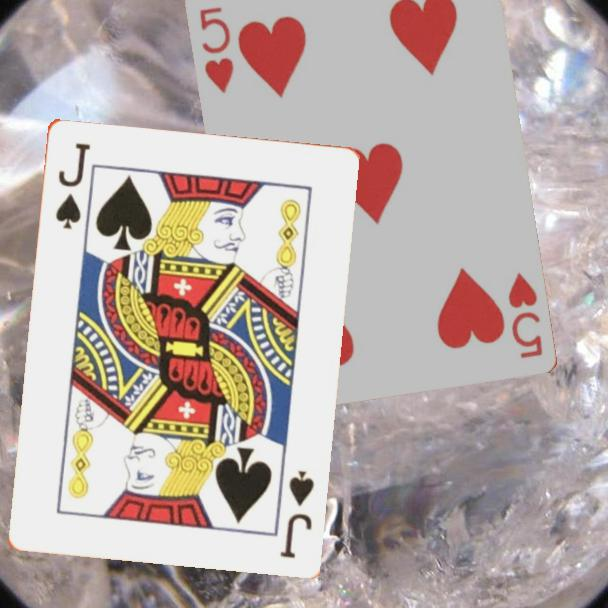h05: (195, 3, 236, 96), (504, 268, 545, 361)
s11: (51, 139, 93, 232), (276, 467, 316, 561)
